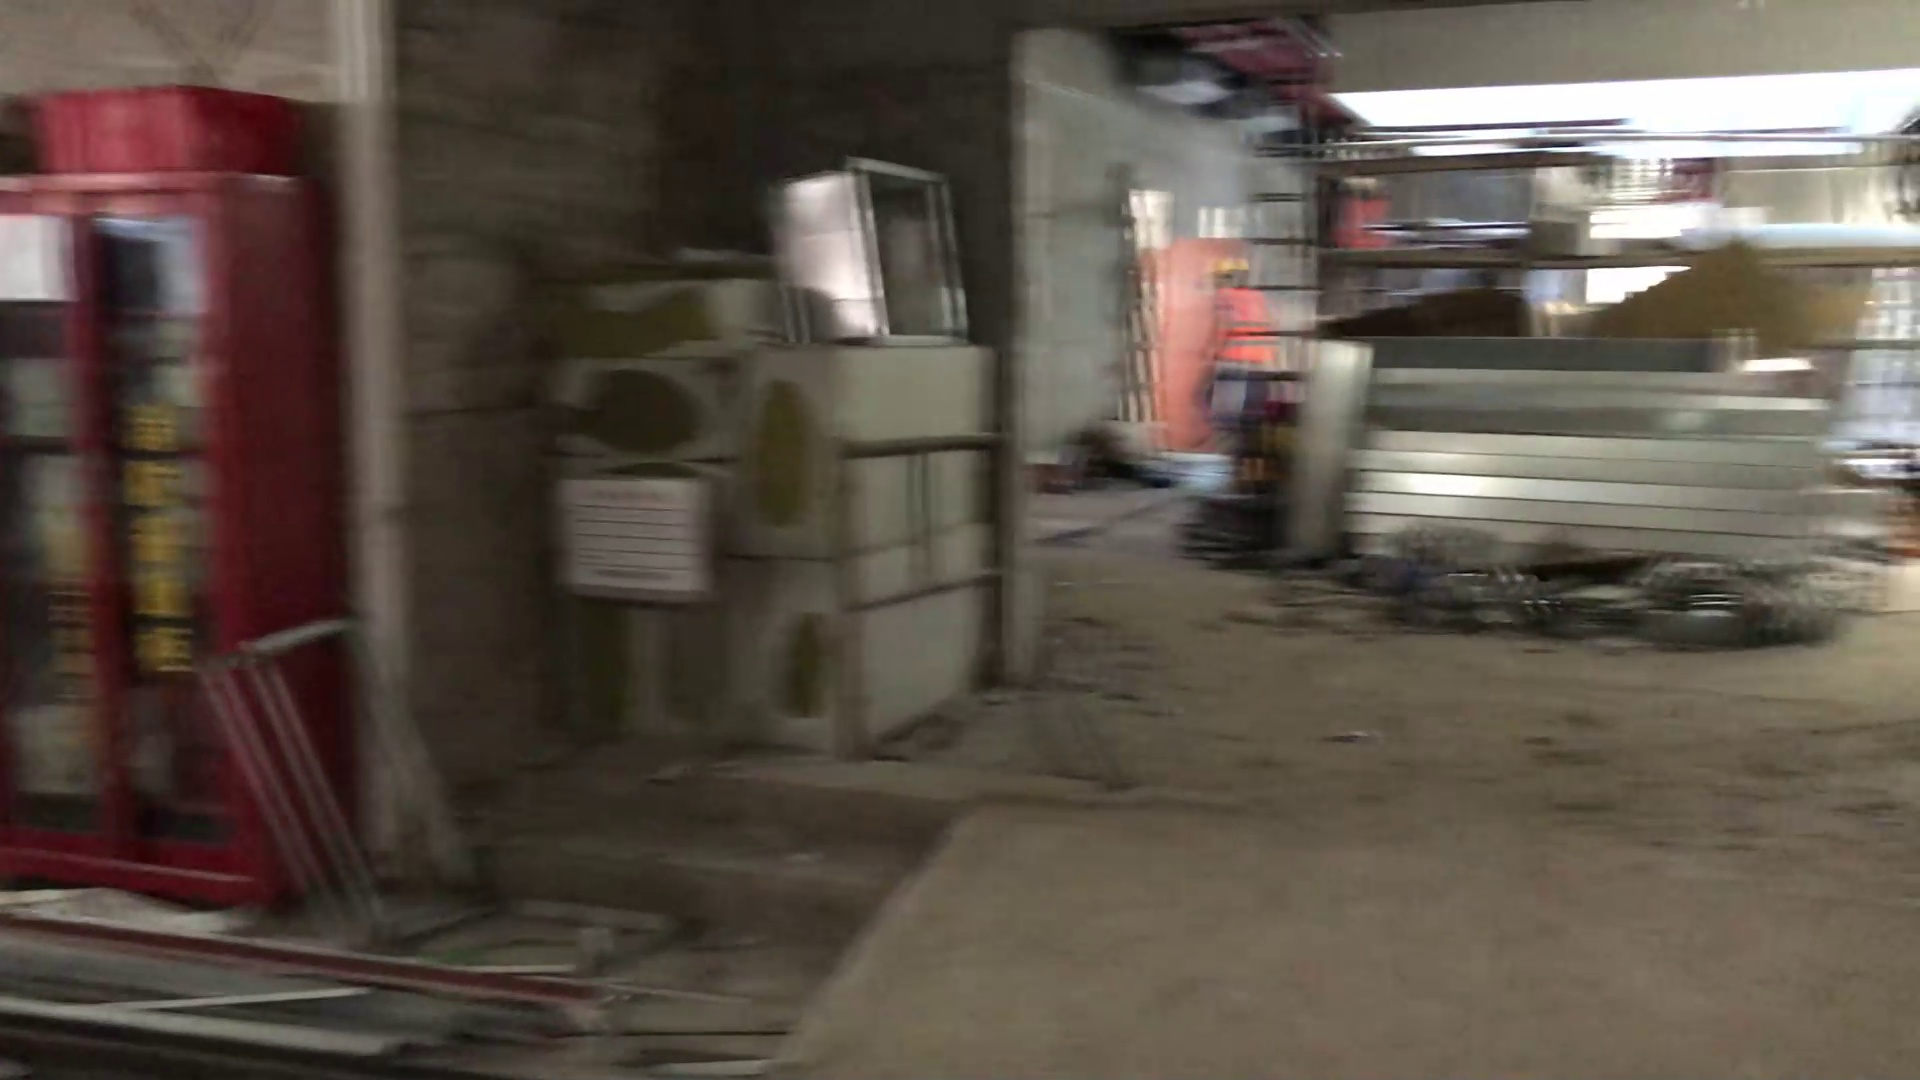helmet: (1211, 256, 1251, 280)
person: (1206, 243, 1277, 434)
vest: (1215, 287, 1268, 366), (1337, 200, 1386, 248)
